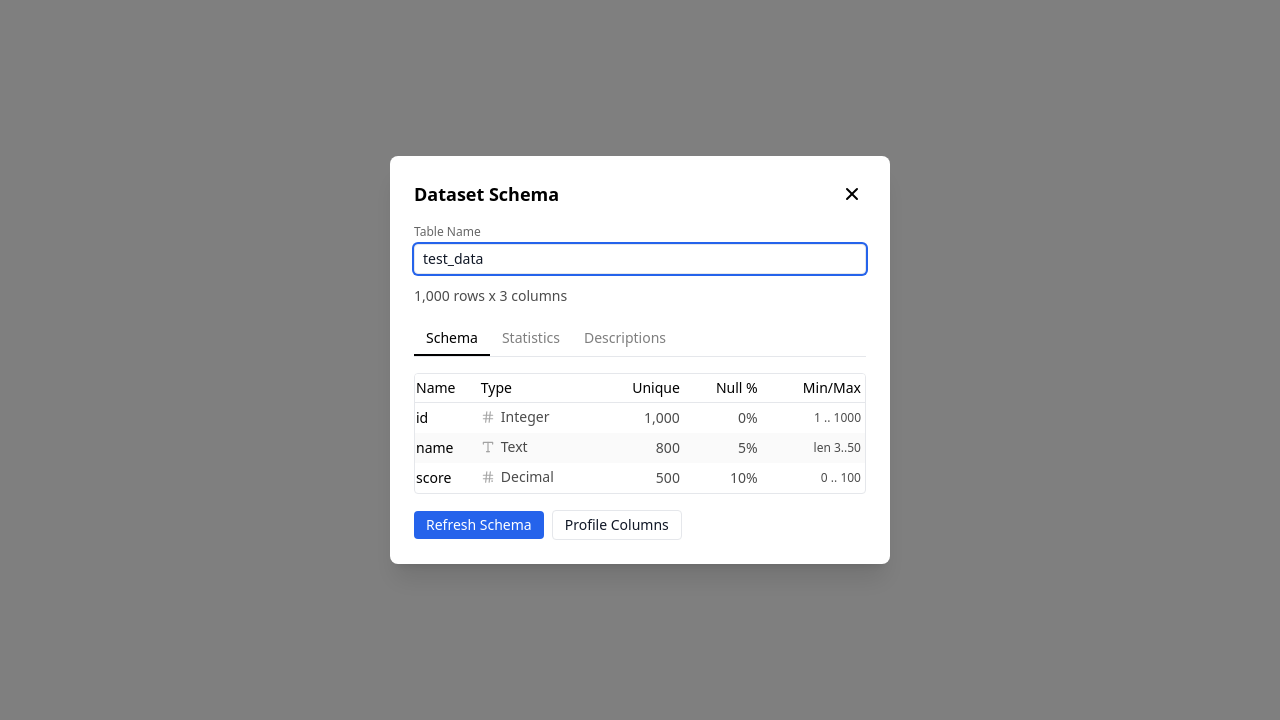
Test: SM-STATS-NULL-1: Null percentage display › displays null count and percentage in summary row
Click the button with test id "schema-tab-stats": (531, 339) [490,322,572,356]
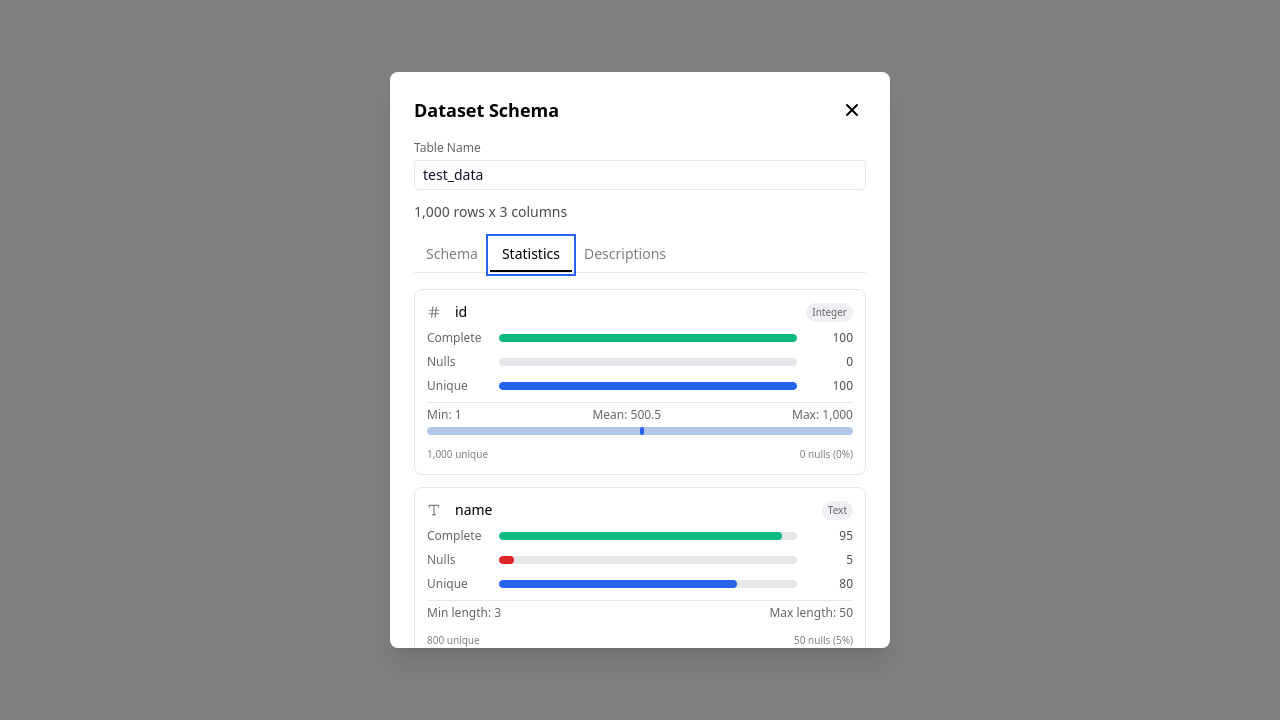
Check: the element with test id "stat-card-name" shows "50 nulls", box [414,487,866,648]
Check: the element with test id "stat-card-name" shows "5%", box [414,487,866,648]
